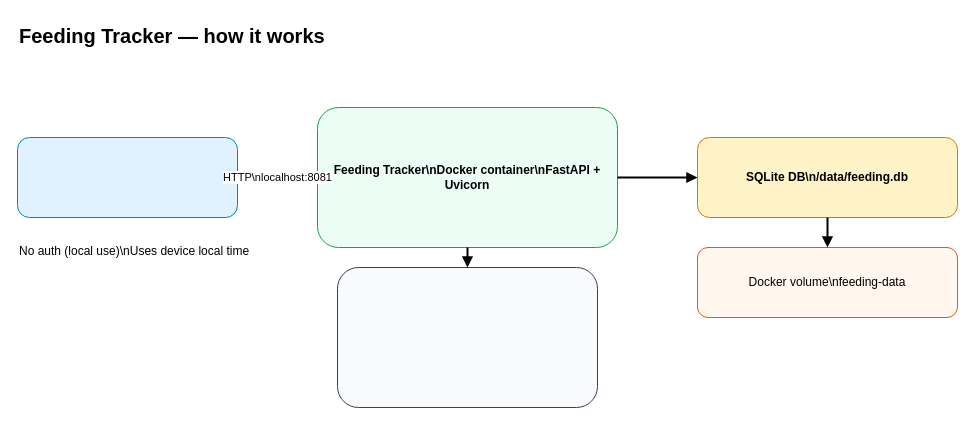
This 975x425 diagram has some shape labels left out. Each missing label, with the box of its shape:
Parent\n(mobile browser): (16, 136, 238, 218)
Serves UI + JSON API\n\nUI: /\nFeeding: /api/feeds\nDiapers: /api/diapers: (336, 266, 598, 408)
